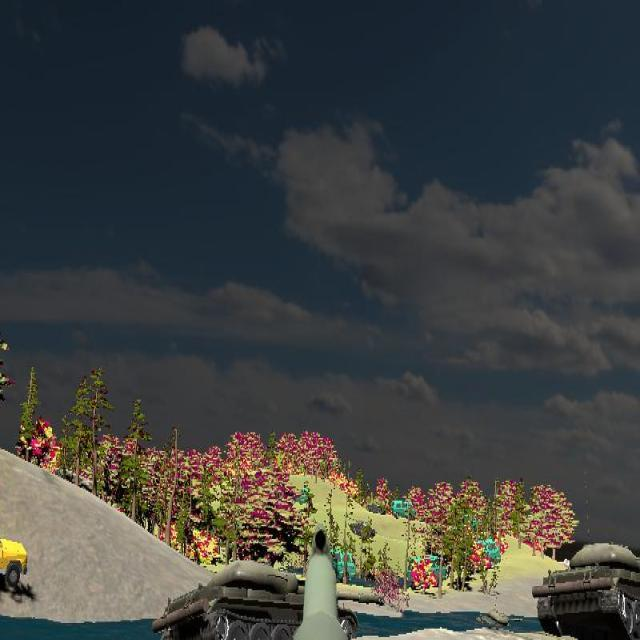Tank: (151, 557, 385, 639), (533, 542, 640, 640)
car: (0, 524, 28, 595)
